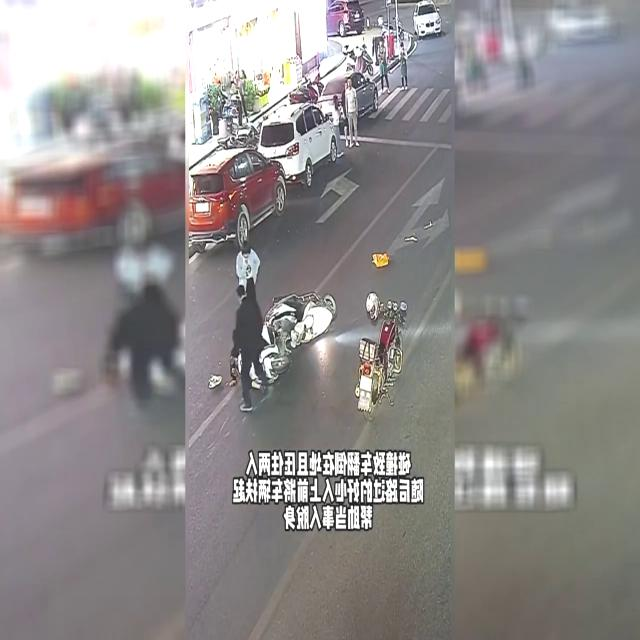accident: (198, 280, 340, 416)
non-accident: (188, 101, 350, 252), (257, 68, 379, 192)
